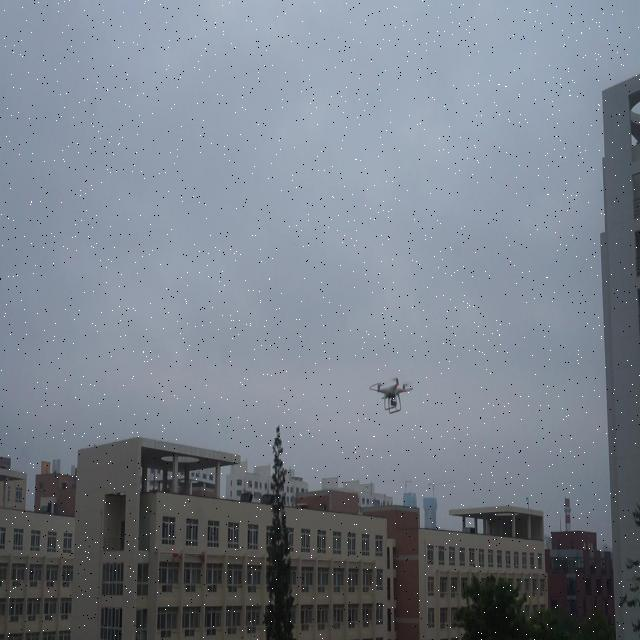UAV: (369, 378, 413, 414)
